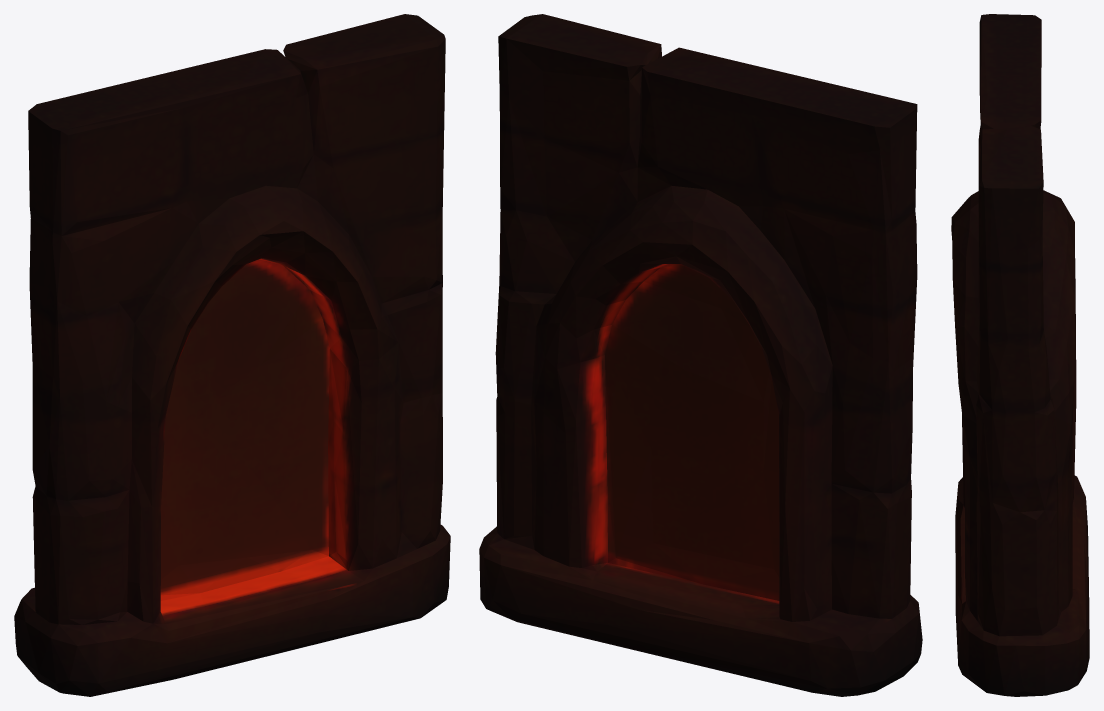
3 renders of one model, left to right at view 1: azimuth 30°, elevation 25°; view 2: azimuth 150°, elevation 25°; view 3: azimuth 270°, elevation 25°, orthographic. The views are drawn at different scales.
Parts seen in each view (by area): view 1: geometry_0.032_Baked; view 2: geometry_0.032_Baked; view 3: geometry_0.032_Baked.
Boxes of the visible parts, bbox=[...] form: geometry_0.032_Baked: bbox=[14, 14, 450, 696]; geometry_0.032_Baked: bbox=[479, 14, 922, 696]; geometry_0.032_Baked: bbox=[951, 14, 1089, 696].
Bounding box in the file's own units: 20.23 × 26.67 × 6.56.
